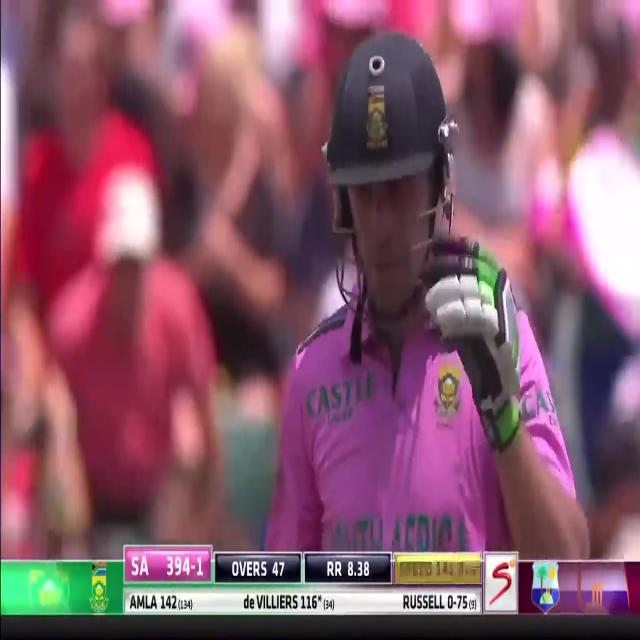Ball: (258, 23, 583, 553)
